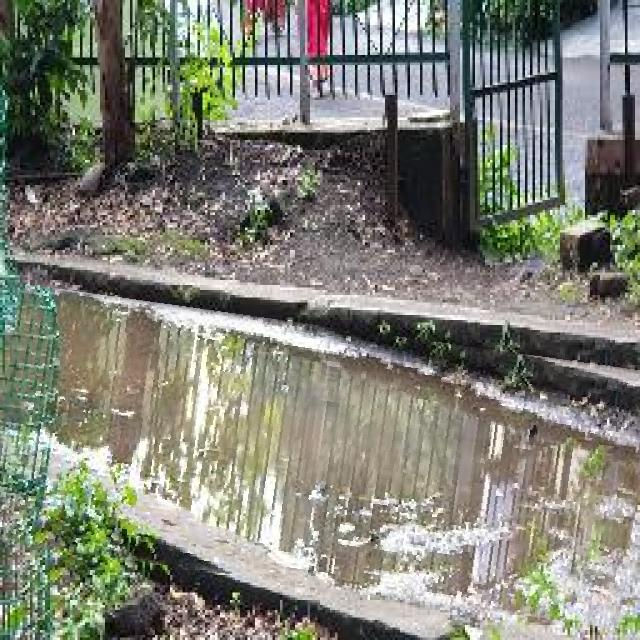puddle: (1, 305, 640, 607)
